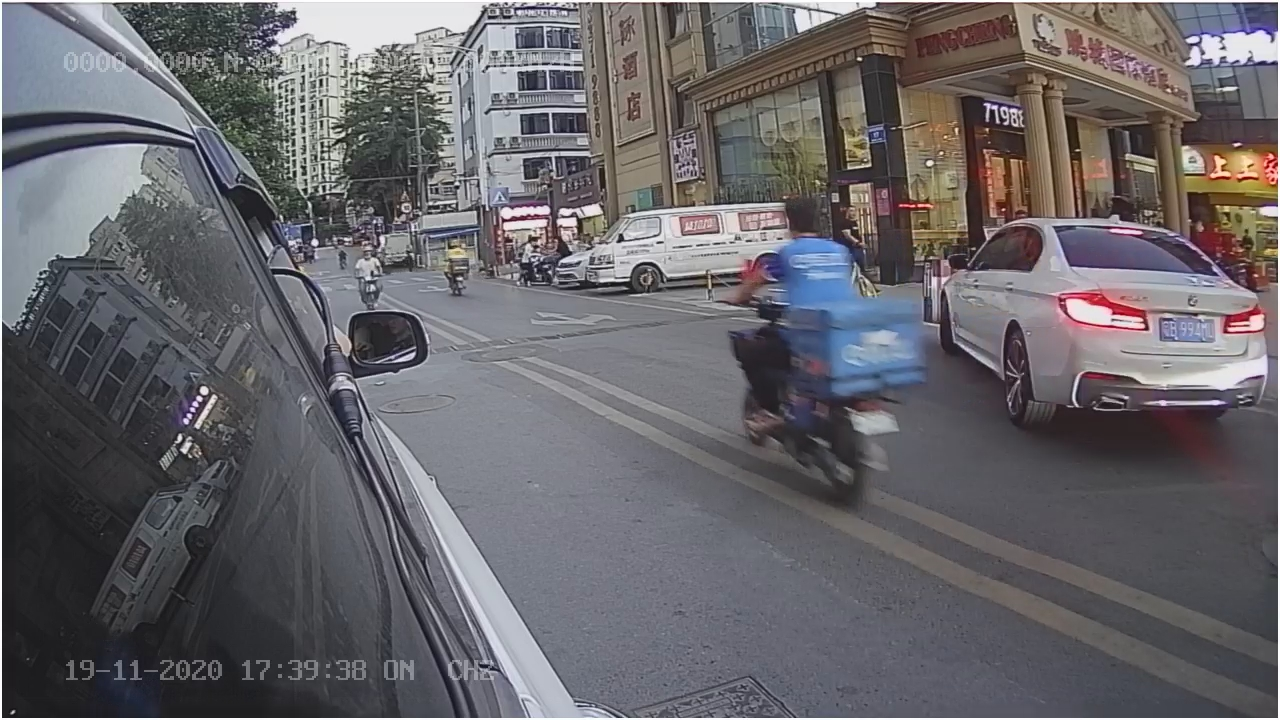person: (755, 199, 856, 313)
